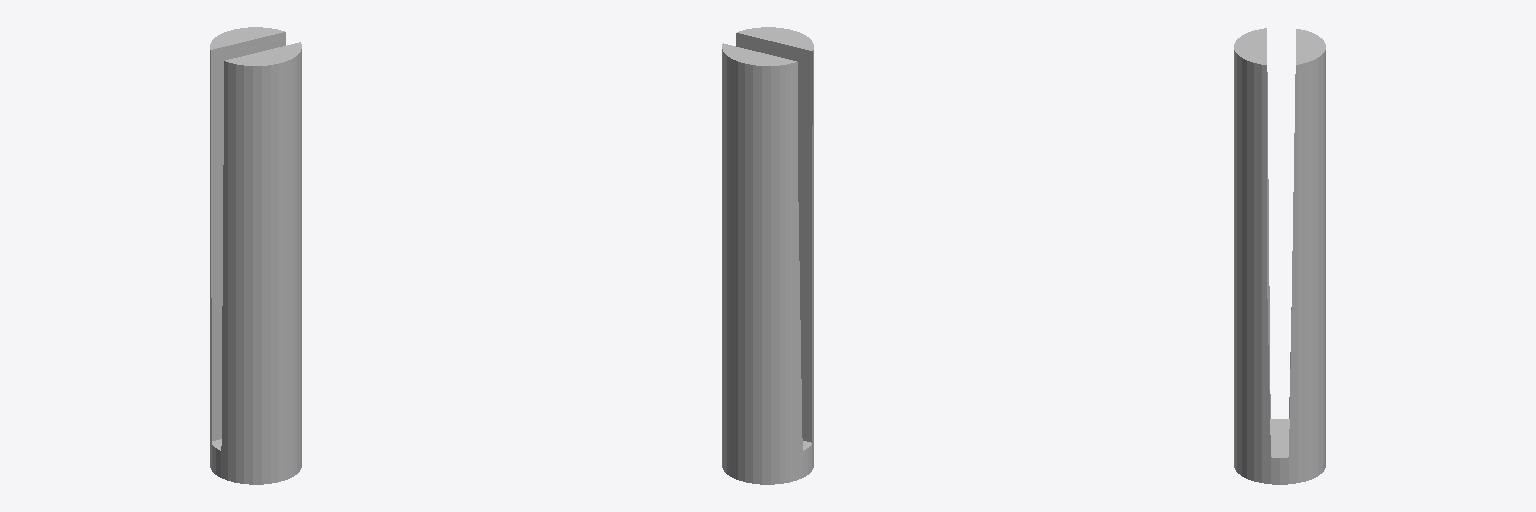
The model's file is casing.obj.
3 views of the same model, side by side, from view 1: azimuth 30°, elevation 25°; view 2: azimuth 150°, elevation 25°; view 3: azimuth 270°, elevation 25° (orthographic).
Visible parts, largest first — view 1: cylinder_Cylinder.001; view 2: cylinder_Cylinder.001; view 3: cylinder_Cylinder.001.
Boxes of the visible parts, <box> form: cylinder_Cylinder.001: <box>210,27,301,484</box>; cylinder_Cylinder.001: <box>722,27,813,484</box>; cylinder_Cylinder.001: <box>1234,28,1325,484</box>.
Size of the model in its own units: 0.4 by 2 by 0.4.